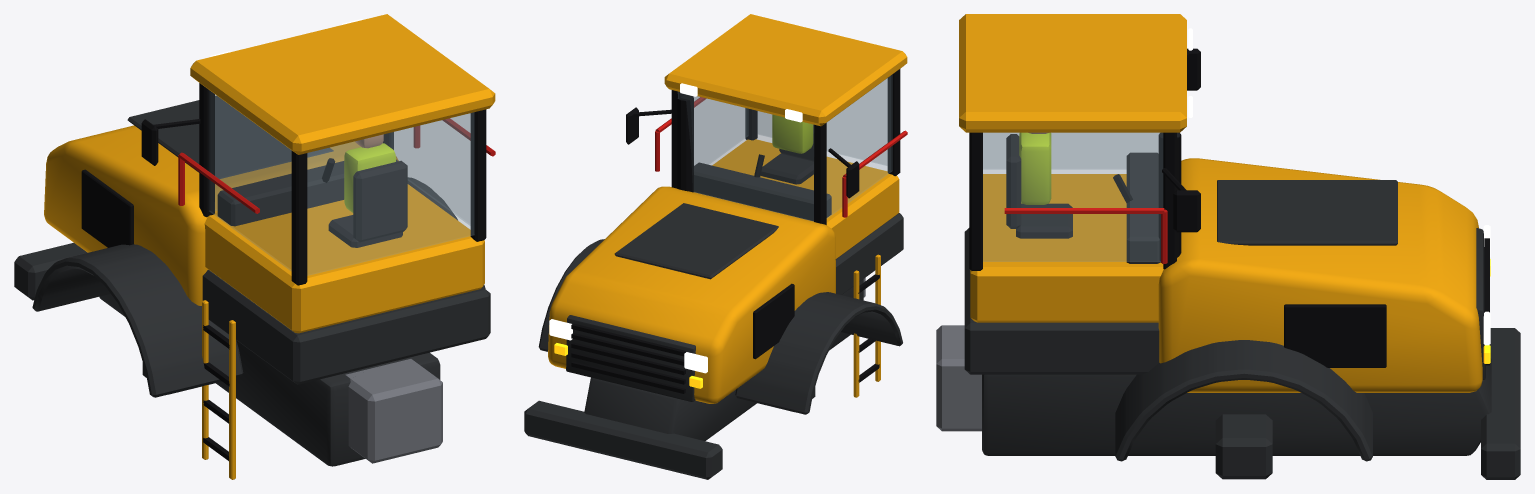
Rendered from front.glb.
The picture shows the model from 3 angles, left to right: view 1: azimuth 30°, elevation 25°; view 2: azimuth 150°, elevation 25°; view 3: azimuth 270°, elevation 25°; orthographic projection. The views are drawn at different scales.
Parts seen in each view (by area): view 1: HaulerFront; view 2: HaulerFront; view 3: HaulerFront.
Boxes of the visible parts, x1,y1,x2,y2 form: HaulerFront: [14, 14, 495, 479]; HaulerFront: [524, 14, 907, 479]; HaulerFront: [936, 14, 1520, 479].
Bounding box in the file's own units: 3.59 × 3.8 × 5.13.
